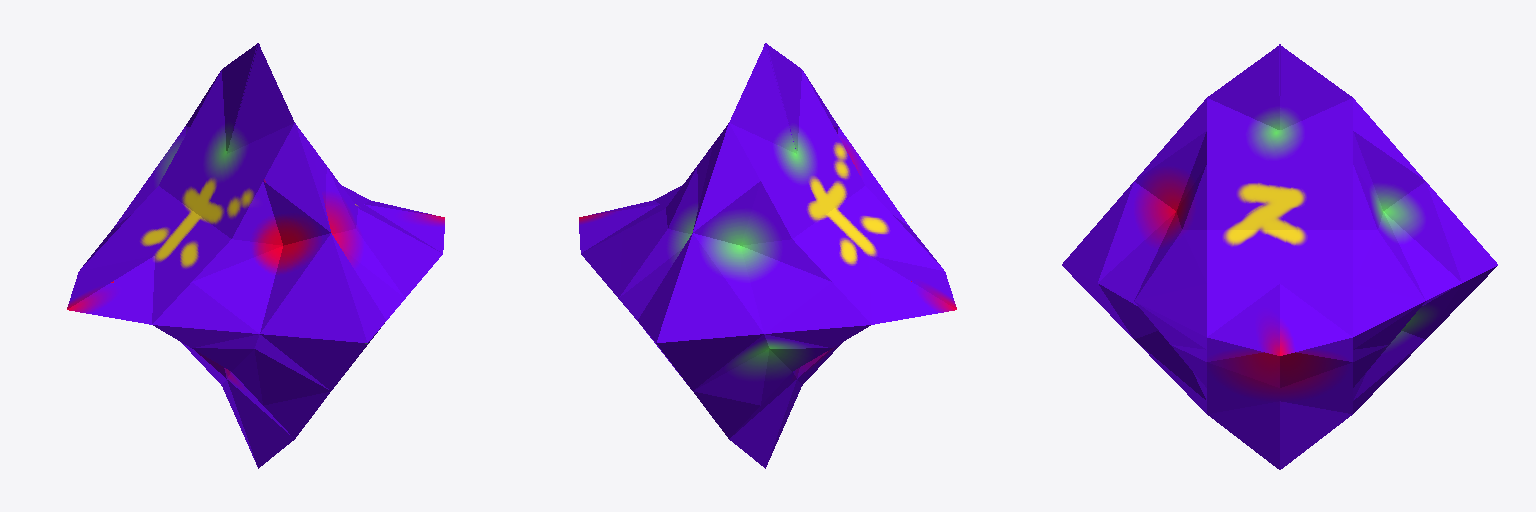
The picture shows the model from 3 angles: view 1: azimuth 30°, elevation 25°; view 2: azimuth 150°, elevation 25°; view 3: azimuth 270°, elevation 25°; orthographic projection.
Visible parts, largest first — view 1: 立方体; view 2: 立方体; view 3: 立方体.
Part boxes in pixels (bbox=[...]): 立方体: bbox=[67, 43, 444, 468]; 立方体: bbox=[579, 43, 956, 468]; 立方体: bbox=[1062, 44, 1497, 469].
Size of the model in its own units: 5.98 by 6.44 by 5.98.
1 materials, 1 textured.